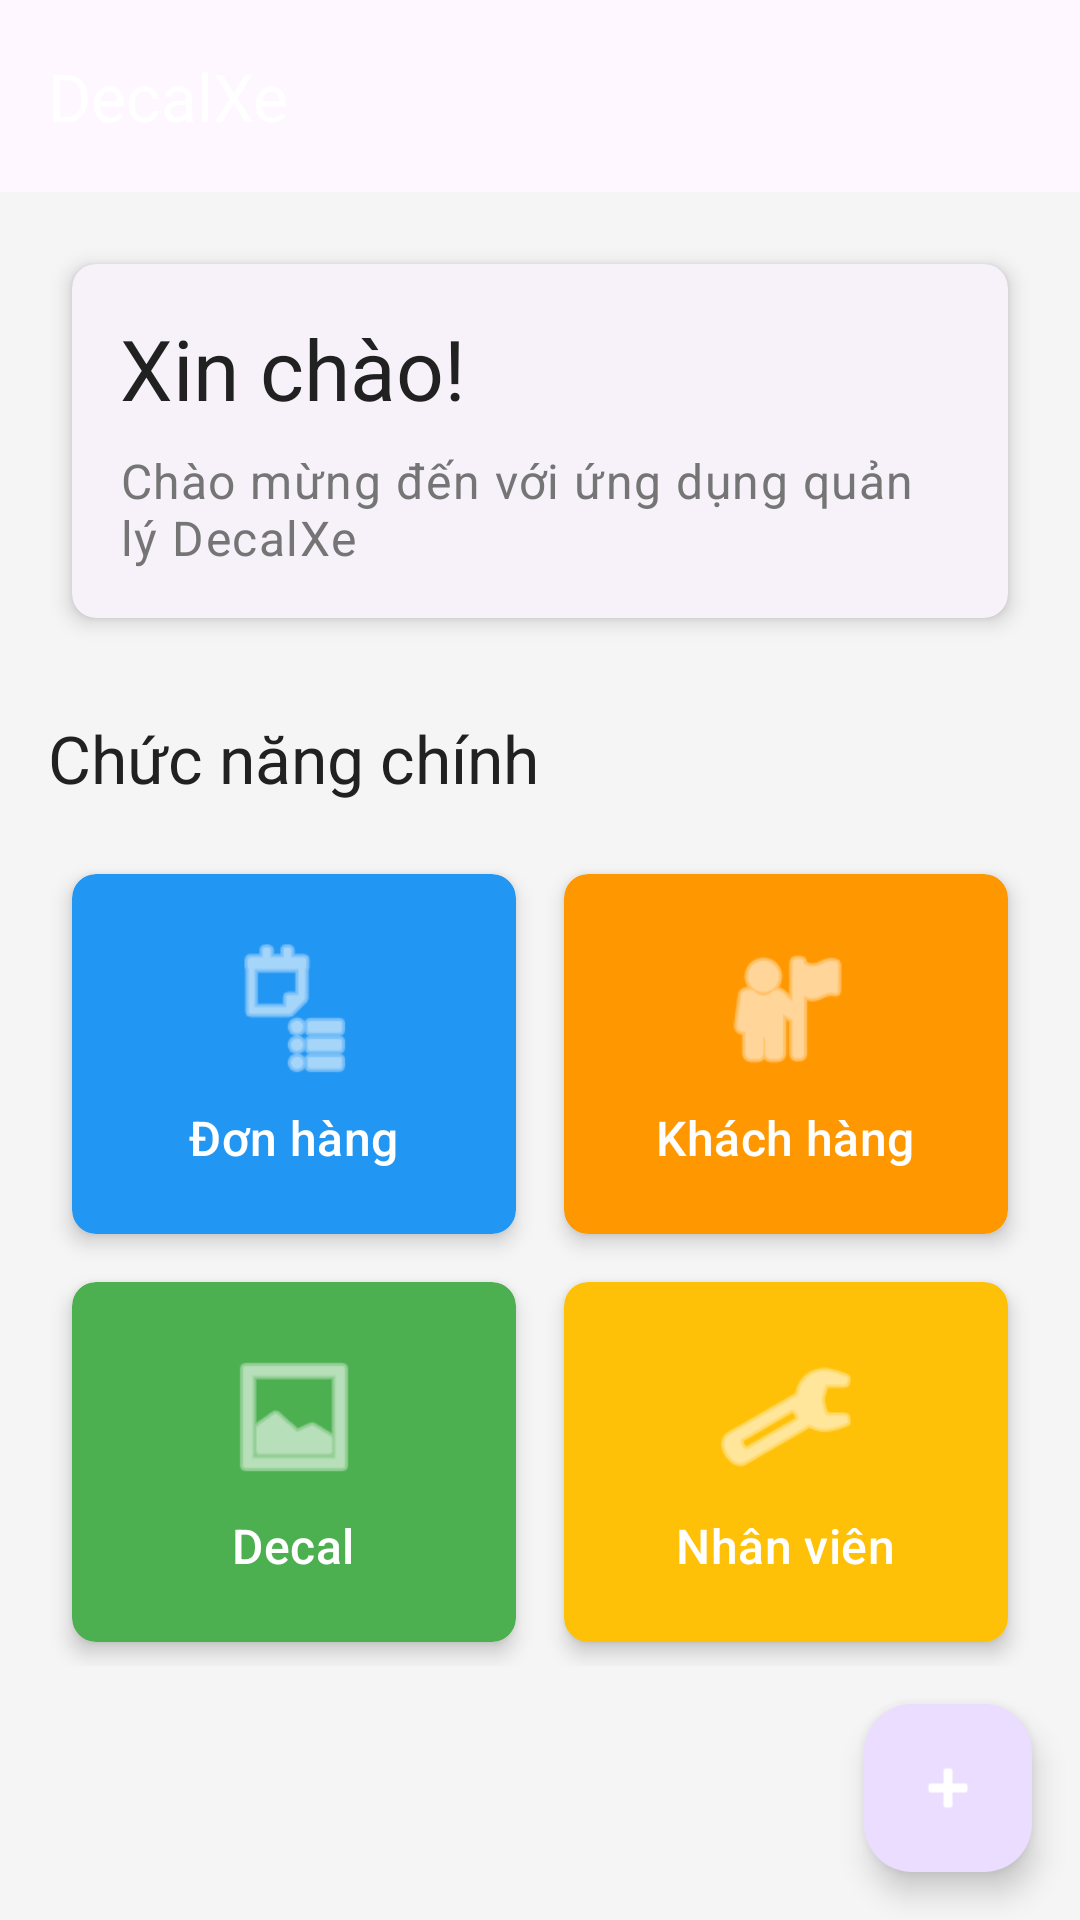

Where icons sit on this 1080w x 1920h app screen, as detection(x1, y1, x2, y2):
add: detection(864, 1704, 1032, 1872)
agenda: detection(244, 944, 345, 1072)
gallery: detection(240, 1363, 348, 1471)
manage: detection(721, 1367, 851, 1467)
myplaces: detection(733, 955, 842, 1063)
